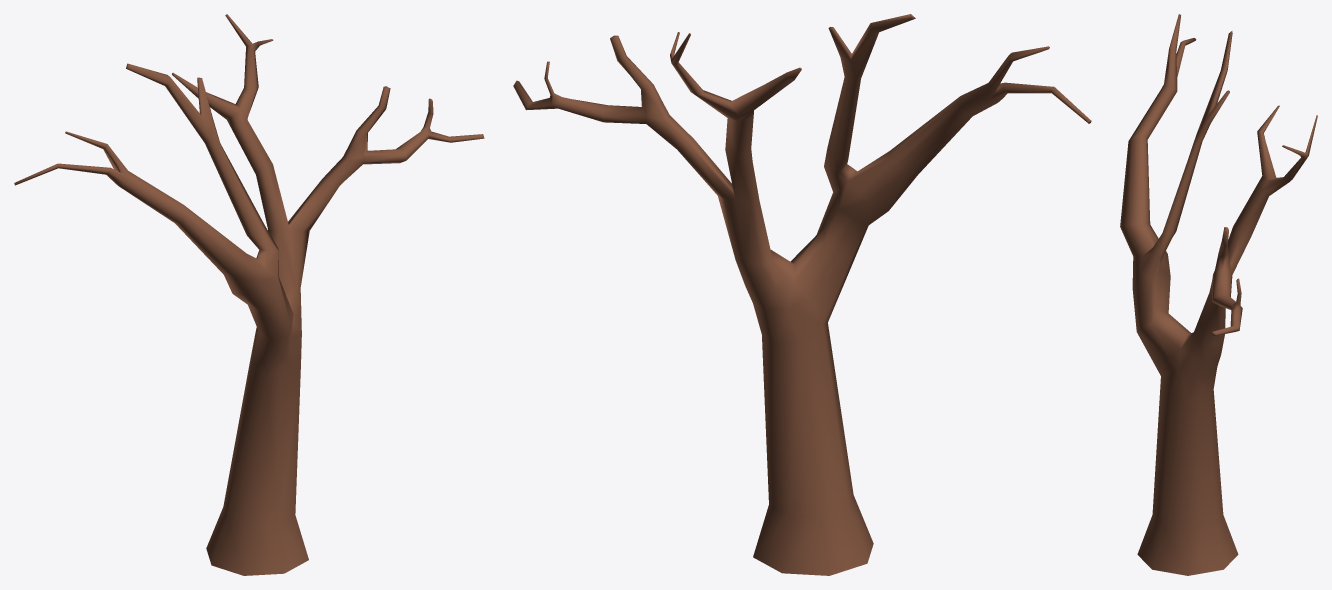
File: Arvore_10.fbx
3 renders of one model, left to right at view 1: azimuth 30°, elevation 25°; view 2: azimuth 150°, elevation 25°; view 3: azimuth 270°, elevation 25°, orthographic. The views are drawn at different scales.
Visible parts, largest first — view 1: Arvore_10; view 2: Arvore_10; view 3: Arvore_10.
Part boxes in pixels (bbox=[...]): Arvore_10: bbox=[14, 14, 484, 575]; Arvore_10: bbox=[513, 14, 1091, 575]; Arvore_10: bbox=[1120, 14, 1317, 575].
Bounding box in the file's own units: 2.15 × 5.72 × 5.69.
